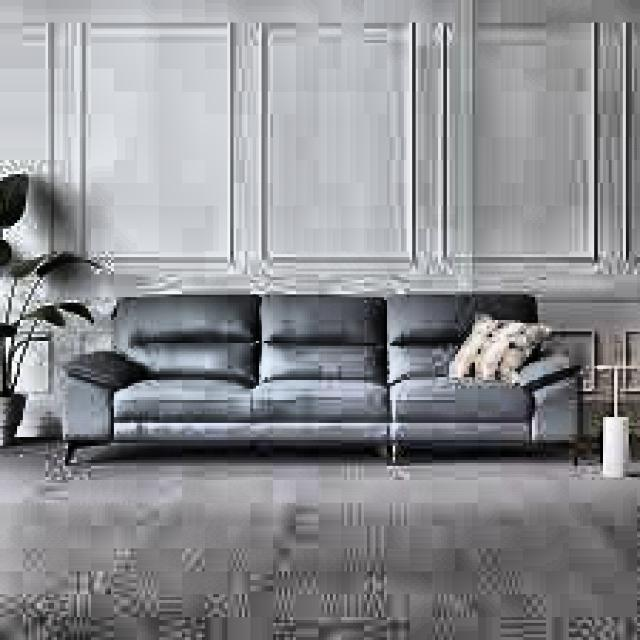sofa: (68, 291, 569, 466)
